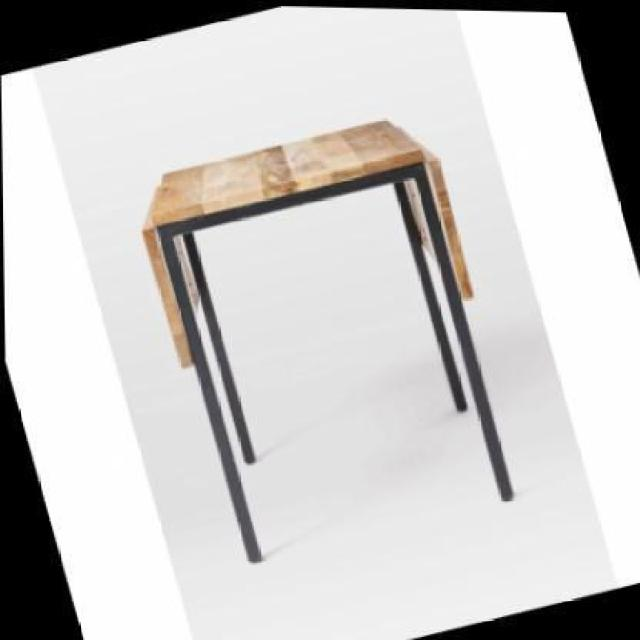tables: (140, 117, 514, 563)
